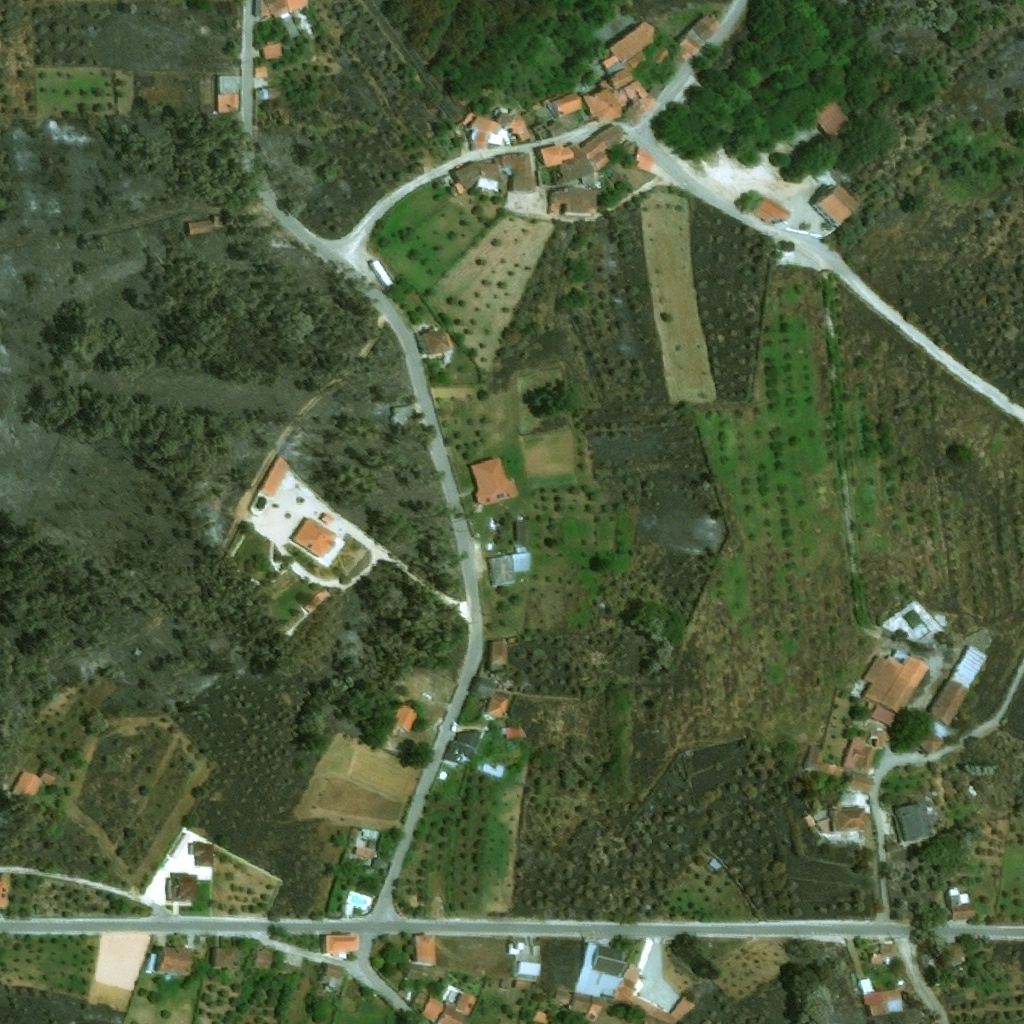0 no-damage: (927, 644, 990, 730), (859, 654, 930, 728), (613, 964, 696, 1023), (576, 941, 630, 997), (600, 21, 656, 69), (469, 457, 517, 506), (409, 989, 478, 1023), (811, 94, 858, 143), (468, 111, 531, 146), (675, 13, 719, 62), (580, 125, 626, 171), (291, 515, 337, 559), (893, 800, 937, 845), (858, 976, 904, 1019), (812, 184, 859, 226), (546, 184, 600, 217), (492, 152, 536, 192), (581, 78, 625, 117), (449, 161, 501, 194), (443, 730, 484, 769), (488, 552, 532, 588), (623, 80, 657, 126), (185, 212, 242, 239), (257, 453, 291, 498), (551, 990, 603, 1019), (561, 142, 597, 182), (842, 733, 877, 774), (803, 745, 843, 778), (155, 945, 195, 977), (386, 702, 420, 737), (10, 769, 42, 802), (946, 888, 977, 922), (753, 197, 790, 225), (834, 805, 868, 833), (915, 728, 946, 756), (539, 145, 574, 167), (422, 330, 452, 355), (166, 877, 197, 901), (550, 93, 581, 117), (848, 770, 876, 796), (325, 936, 359, 957), (414, 936, 435, 966), (316, 963, 345, 984), (191, 842, 214, 868), (870, 943, 896, 966), (490, 642, 510, 671), (608, 67, 633, 90), (210, 948, 237, 969), (39, 765, 62, 789), (252, 949, 275, 972), (485, 697, 509, 719), (262, 38, 284, 61), (472, 677, 497, 697), (516, 961, 542, 978), (217, 93, 238, 113), (255, 87, 280, 101), (482, 763, 504, 778), (869, 731, 888, 748), (514, 979, 535, 994), (950, 943, 965, 964), (501, 728, 526, 739), (628, 53, 646, 68), (530, 1010, 550, 1023), (354, 847, 370, 859), (255, 67, 267, 79), (371, 858, 382, 871), (499, 979, 512, 990), (516, 941, 523, 952)
1 minor-damage: (390, 405, 412, 428)
4 un-classified: (255, 0, 309, 21), (0, 878, 8, 907)
